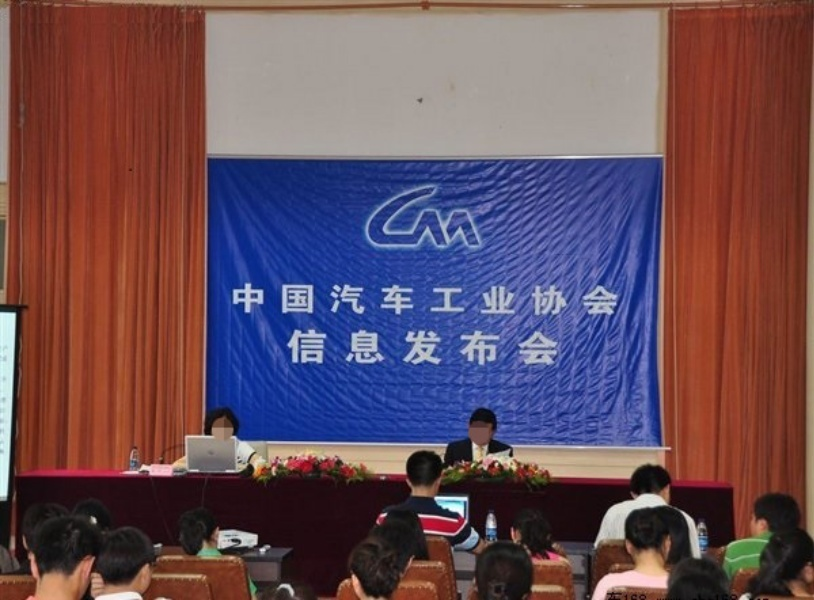text: (289, 328, 304, 366), (305, 328, 320, 366), (321, 328, 336, 366), (337, 328, 352, 366), (353, 328, 368, 366), (369, 328, 384, 366), (385, 328, 400, 366), (401, 328, 416, 366), (417, 328, 432, 366), (433, 328, 448, 366), (449, 328, 464, 366), (465, 328, 480, 366), (481, 328, 496, 366), (497, 328, 512, 366), (513, 328, 528, 366), (529, 328, 544, 366), (545, 328, 560, 366), (241, 284, 256, 315), (257, 284, 272, 315), (273, 284, 288, 315), (289, 284, 304, 315), (305, 284, 320, 315), (321, 284, 336, 315), (337, 284, 352, 315), (353, 284, 368, 315), (369, 284, 384, 315), (385, 284, 400, 315), (401, 284, 416, 315), (417, 284, 432, 315), (433, 284, 448, 315), (449, 284, 464, 315), (465, 284, 480, 315), (481, 284, 496, 315), (497, 284, 512, 315), (513, 284, 528, 315), (529, 284, 544, 315), (545, 284, 560, 315), (561, 284, 576, 315), (577, 284, 592, 315), (593, 284, 608, 315), (609, 284, 620, 315), (230, 284, 240, 315), (285, 328, 288, 366), (561, 328, 564, 366)
